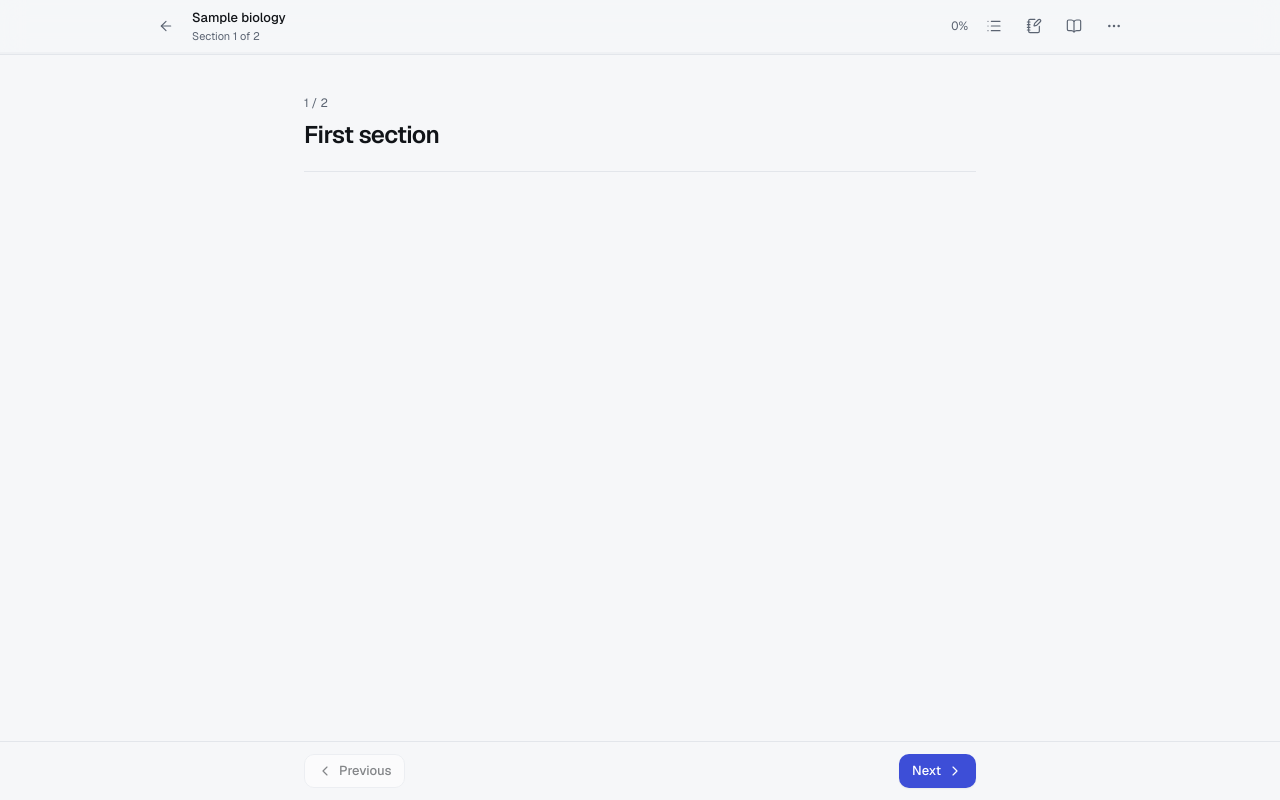
opens and navigates read-only demo lessons without saving progress
Expected: the heading "First section" is shown, x1=304 y1=119 x2=439 y2=150
Click the button "Next" at (938, 771), box x1=899 y1=754 x2=976 y2=788
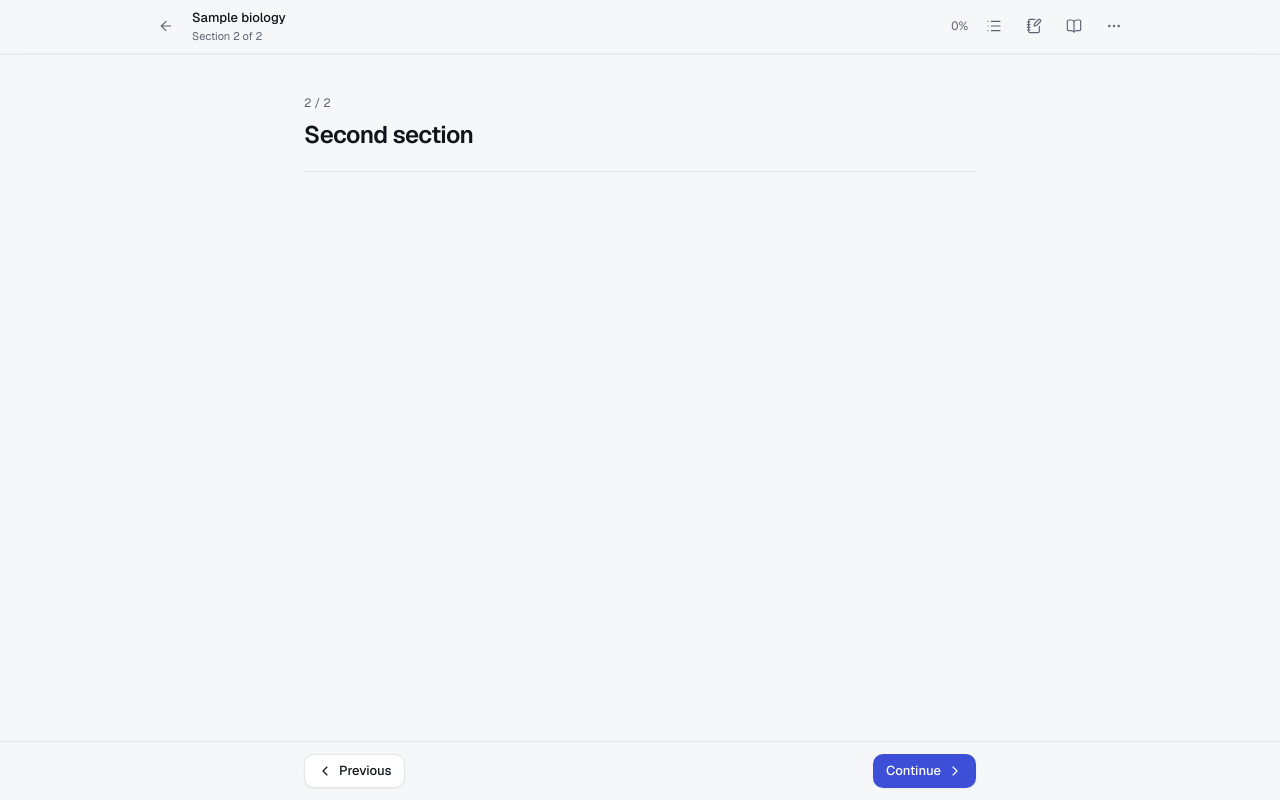
Result: the heading "Second section" is shown at x1=304 y1=119 x2=474 y2=150
Click the button "Continue" at (925, 771), box x1=873 y1=754 x2=976 y2=788
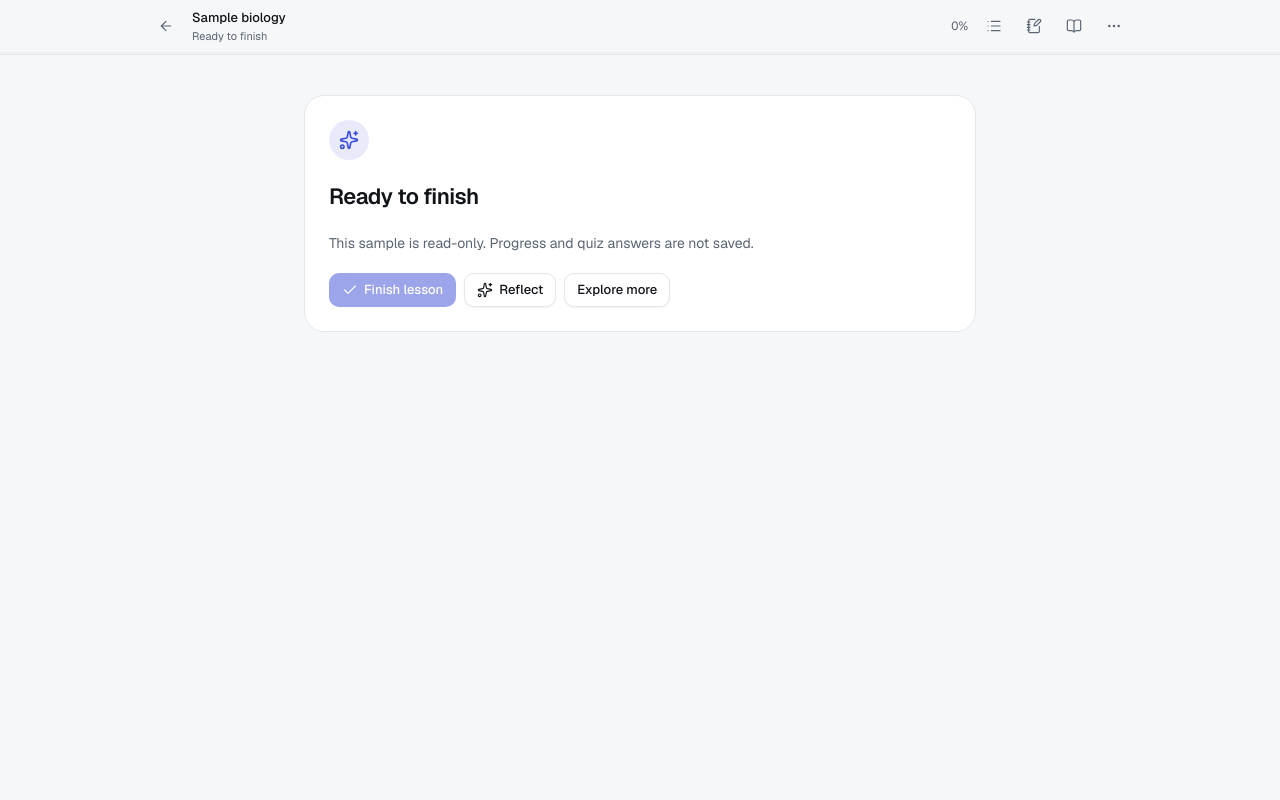
Result: the button "Finish lesson" is disabled at x1=329 y1=273 x2=456 y2=307
Result: the text "This sample is read-only. Progress and quiz answers are not saved." is shown at x1=329 y1=234 x2=754 y2=252
